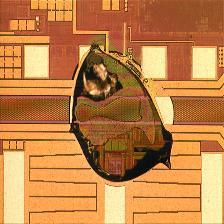PARTICLE: (68, 42, 180, 189)
